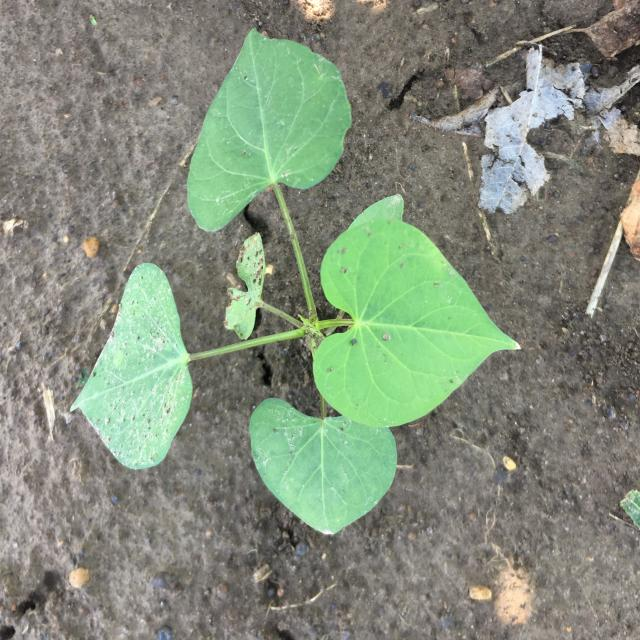MorningGlory: (70, 27, 521, 534)
